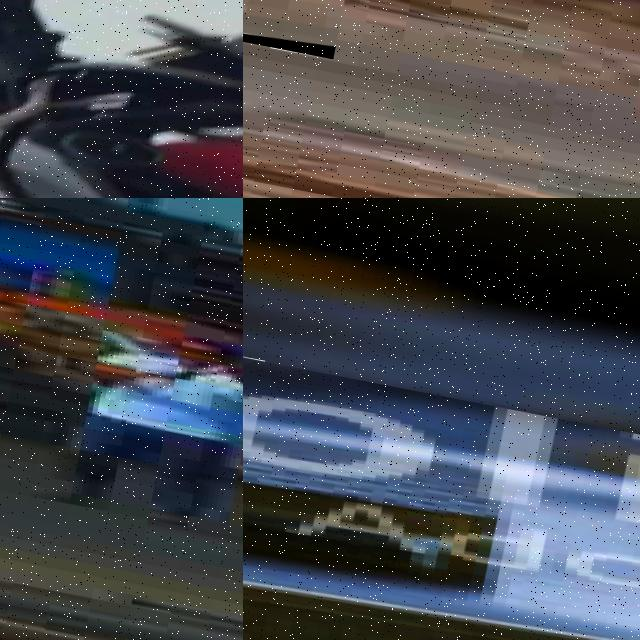drone: (243, 328, 640, 640), (0, 0, 243, 198)
